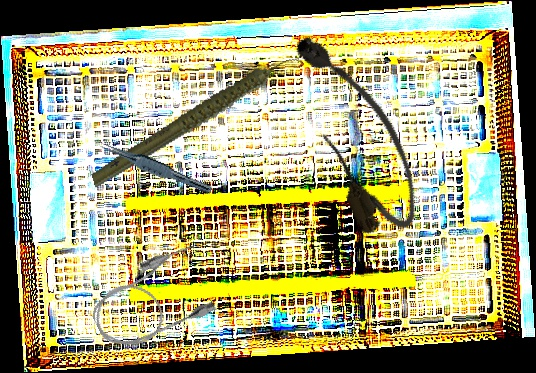Cannula: (281, 17, 433, 245), (80, 239, 224, 360)
Handpiece: (75, 52, 318, 191)
Tissue Forceps: (96, 138, 216, 196)
